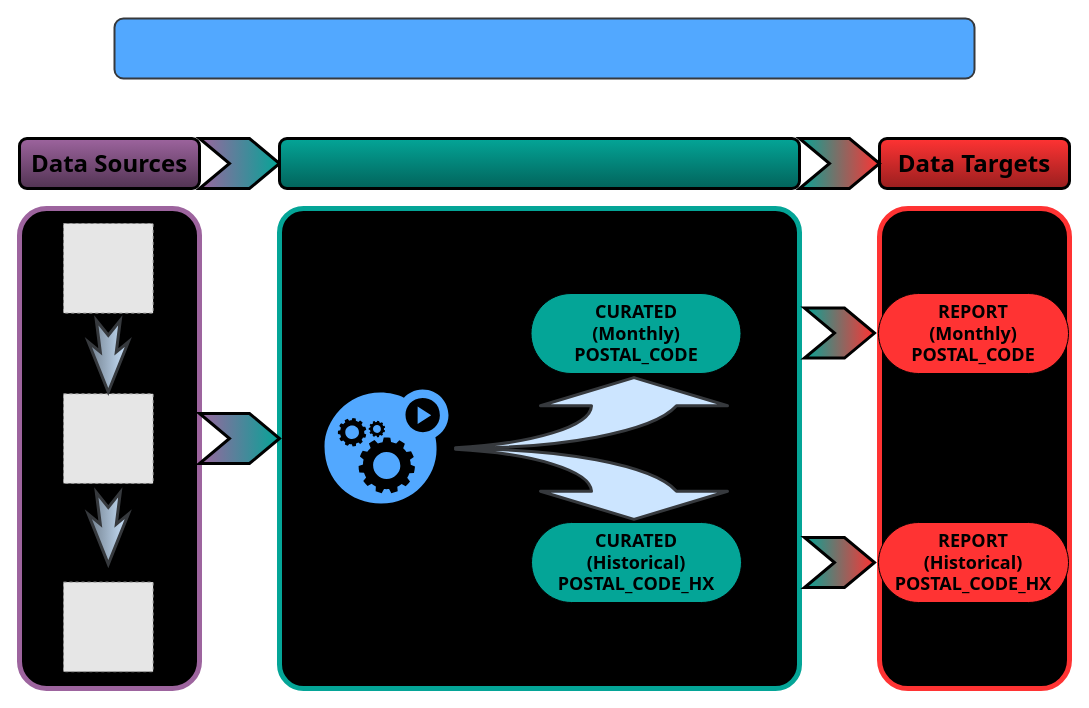
The diagram is 1089 pixels wide and 708 high, and some of its shapes have lost their labels. Grey dashed boxes stand in for pictures. Here are the shapes that lost their labels. From the top down, the box of each, then its label:
(113, 17, 975, 79): POSTAL CODE VIEWER
(278, 136, 800, 190): Data Flow (ELT)
